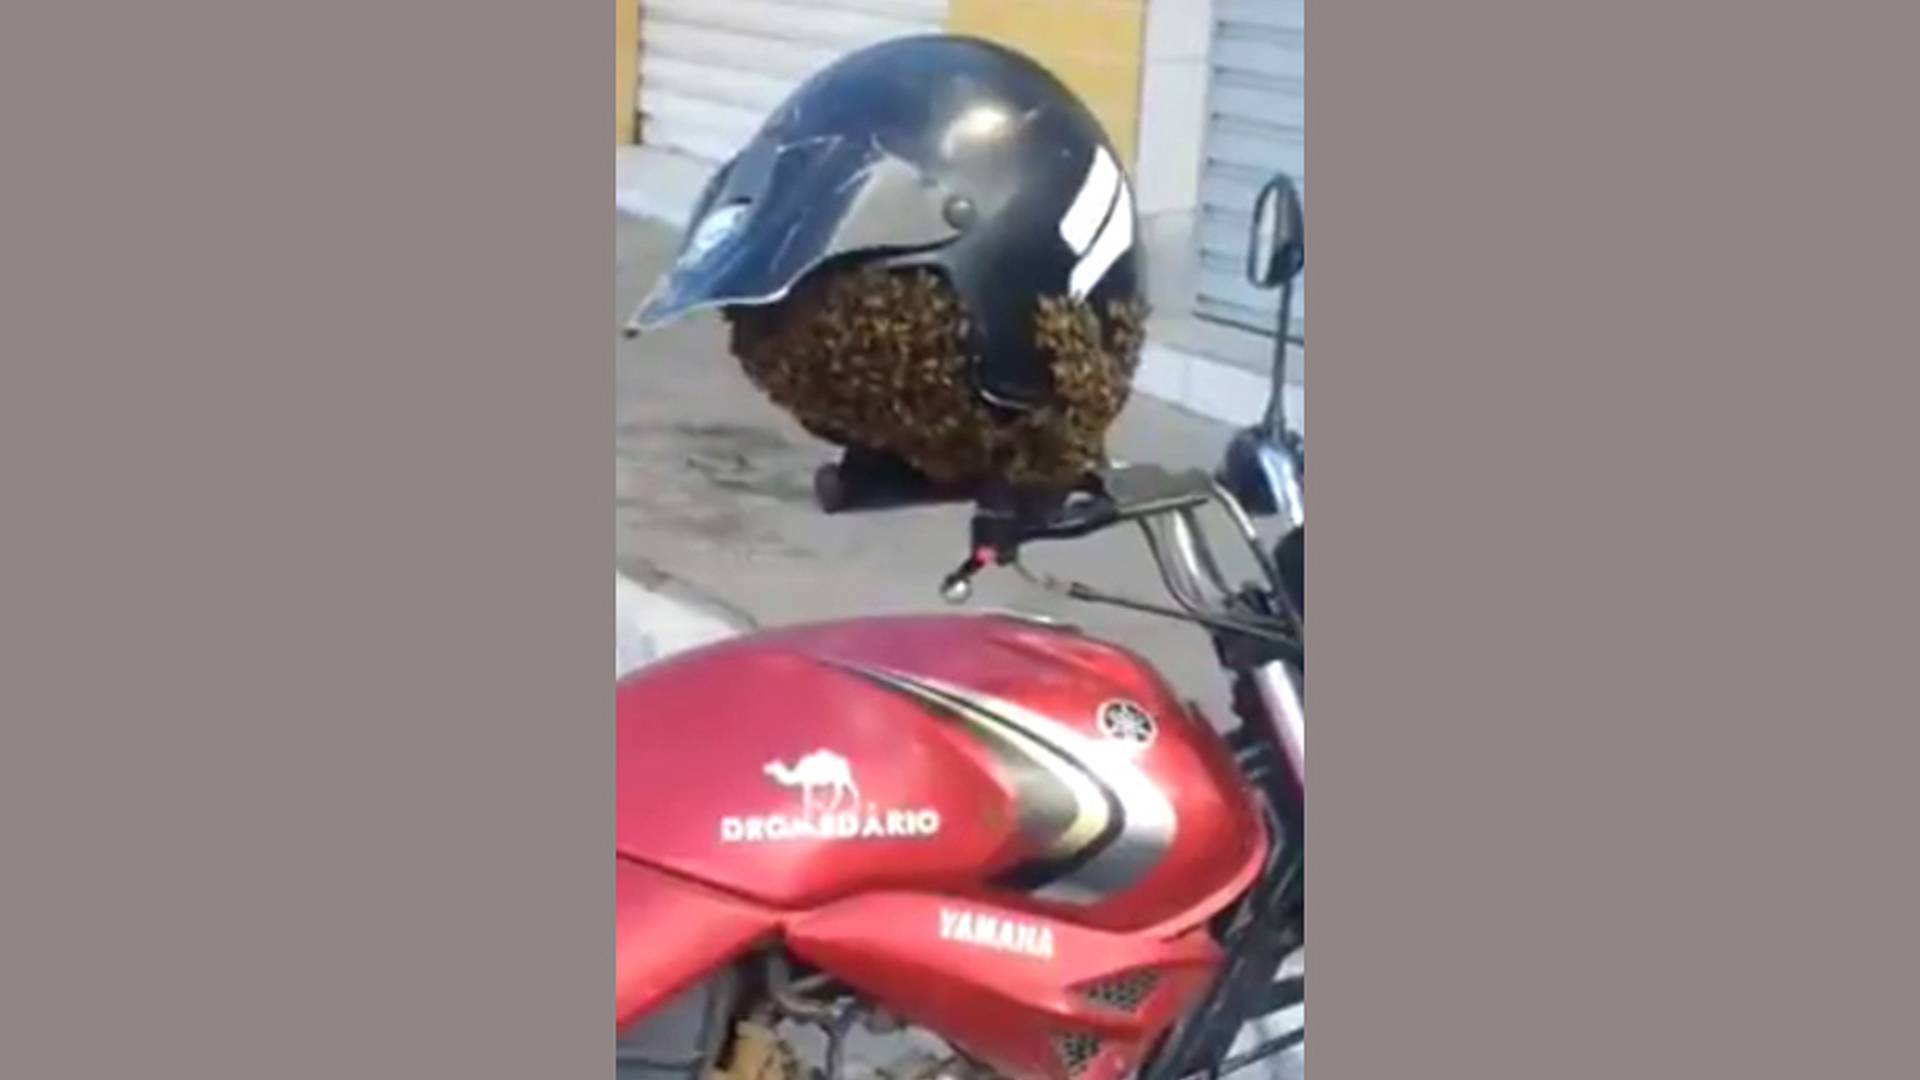with_helmet: (622, 26, 1158, 422)
